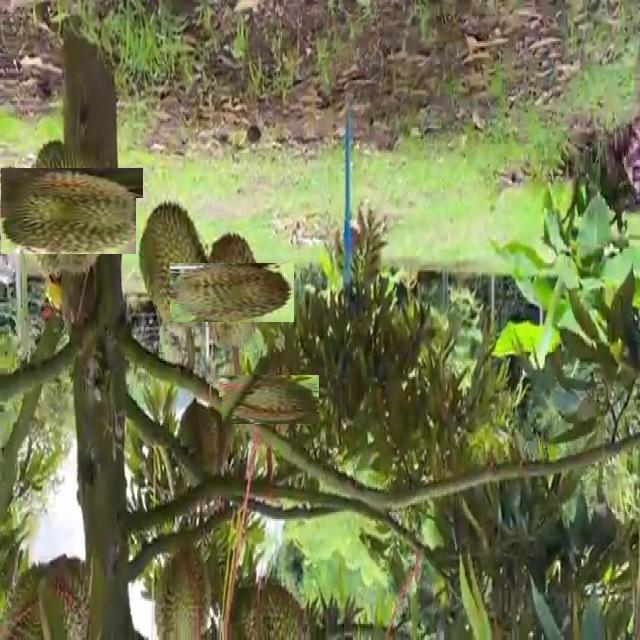durian: (14, 153, 129, 269), (136, 198, 208, 337), (186, 246, 278, 338), (150, 535, 214, 640), (231, 362, 307, 438), (177, 397, 222, 499)
